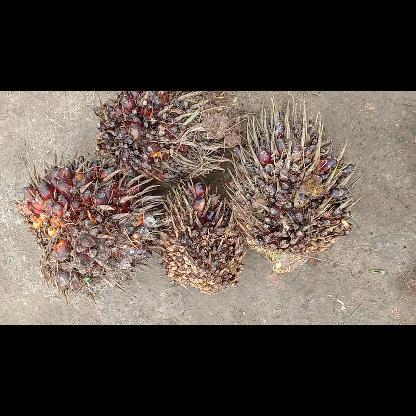TBS abnormal: (227, 97, 360, 271), (96, 91, 236, 179), (158, 180, 246, 292)
TBS masak: (19, 155, 157, 293)
